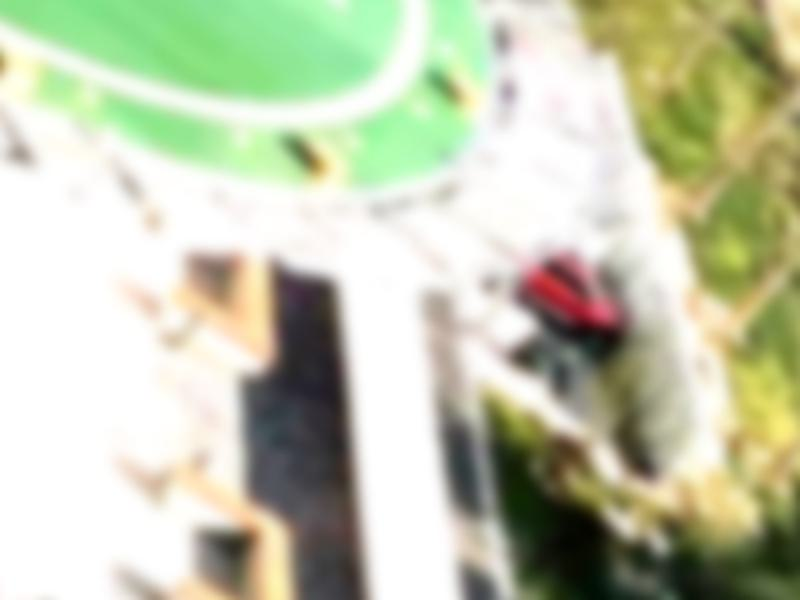Apron: (12, 1, 430, 135)
